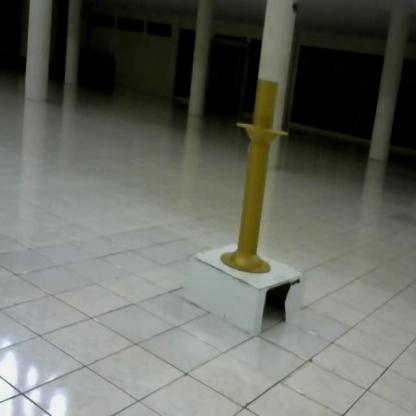pole: (219, 67, 294, 284)
